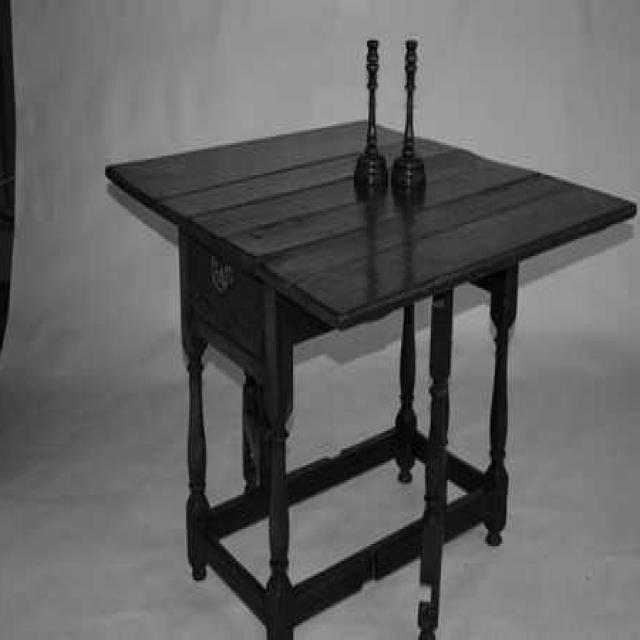table: (105, 122, 636, 638)
